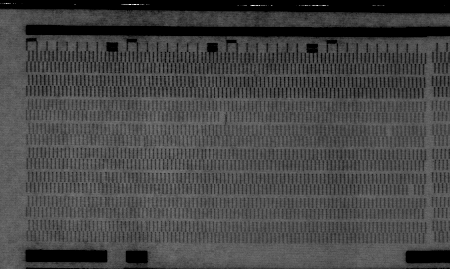Broken hole: (404, 182, 417, 198), (217, 110, 229, 124), (383, 125, 395, 136)
